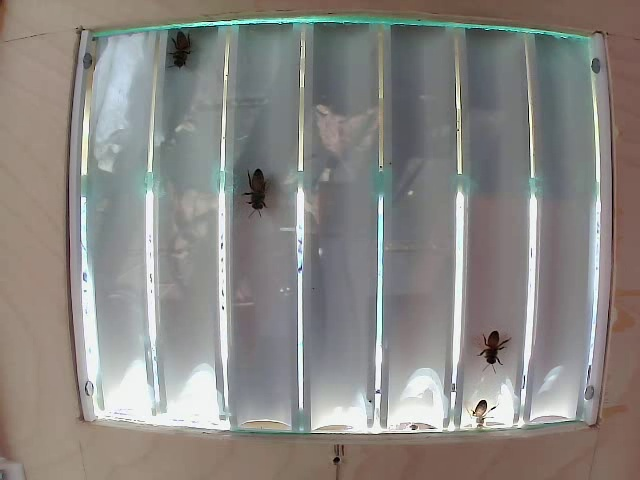bee: (168, 14, 211, 93), (239, 155, 279, 216), (479, 322, 517, 374)
